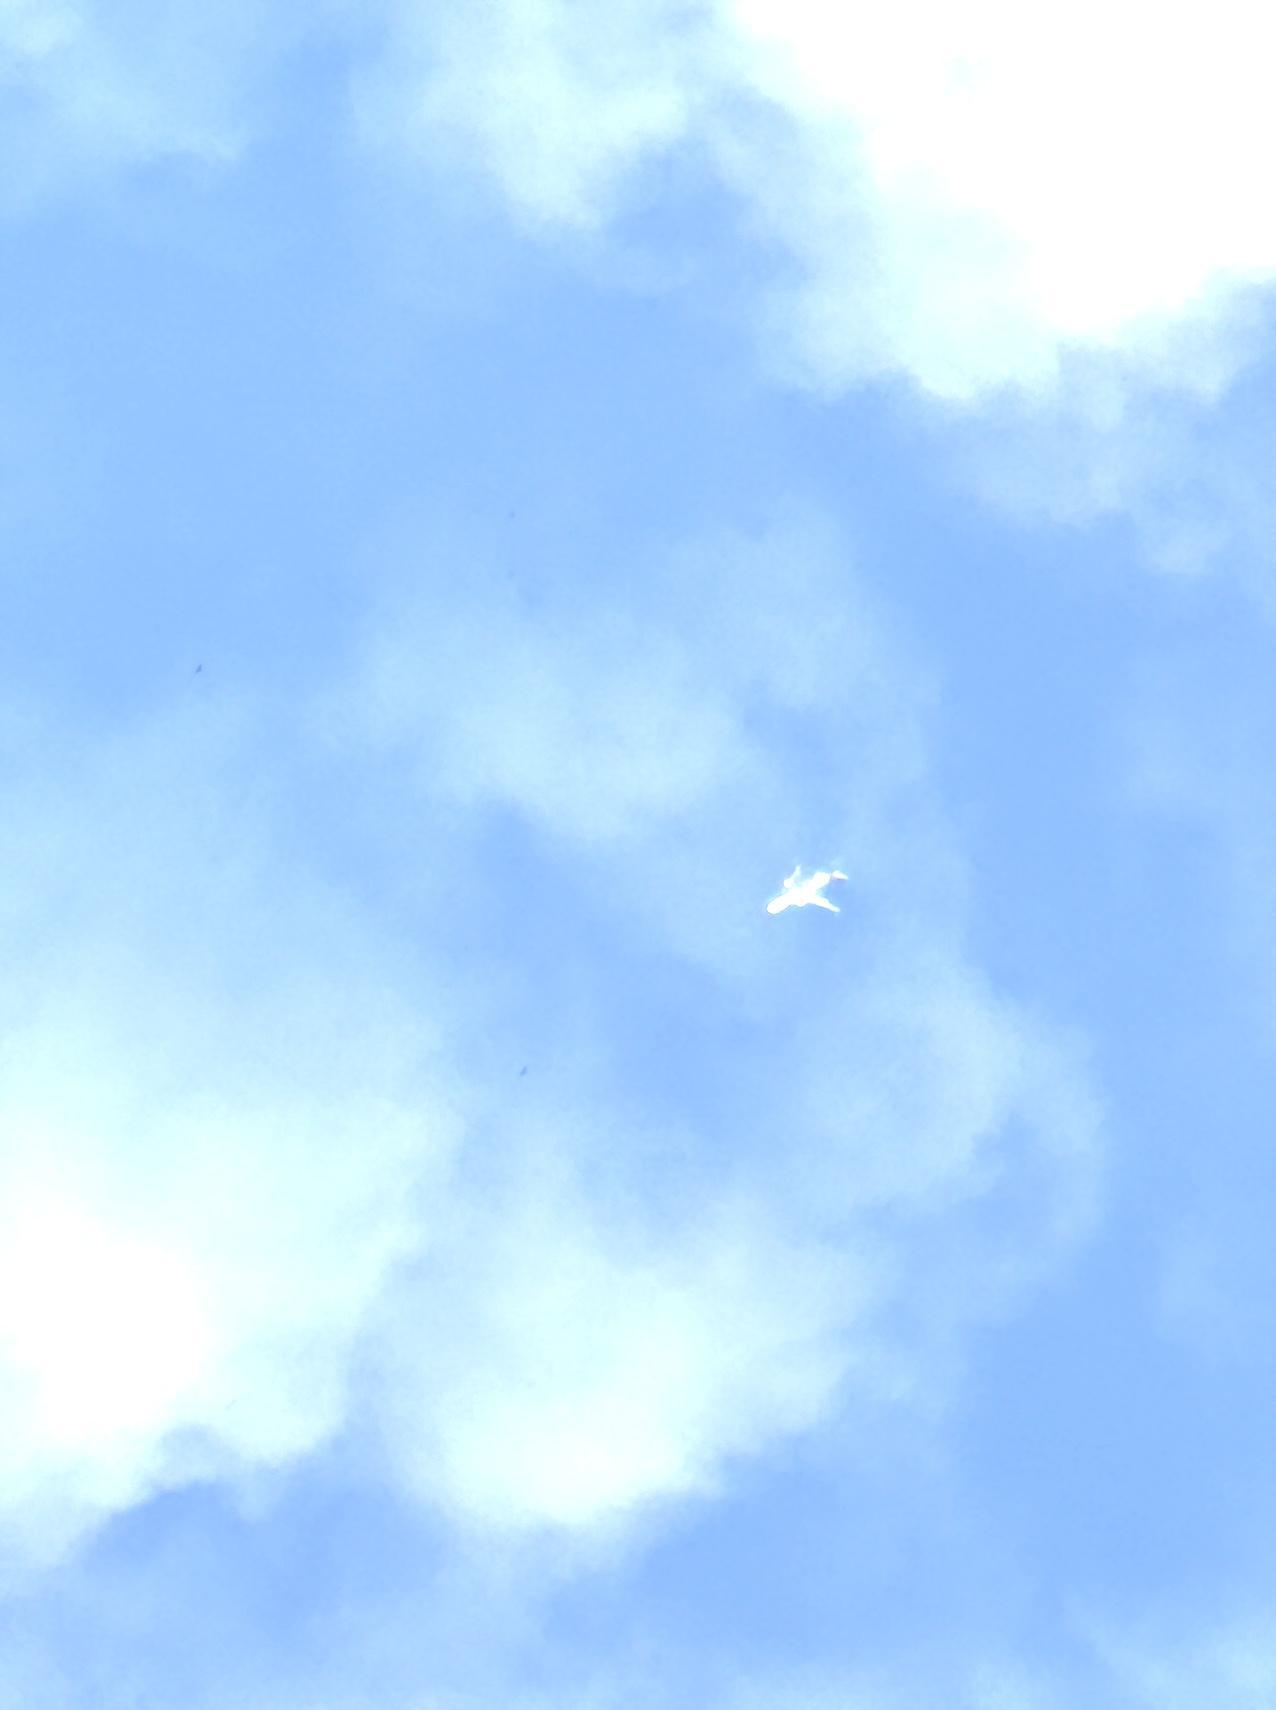Plane: (733, 834, 871, 951)
